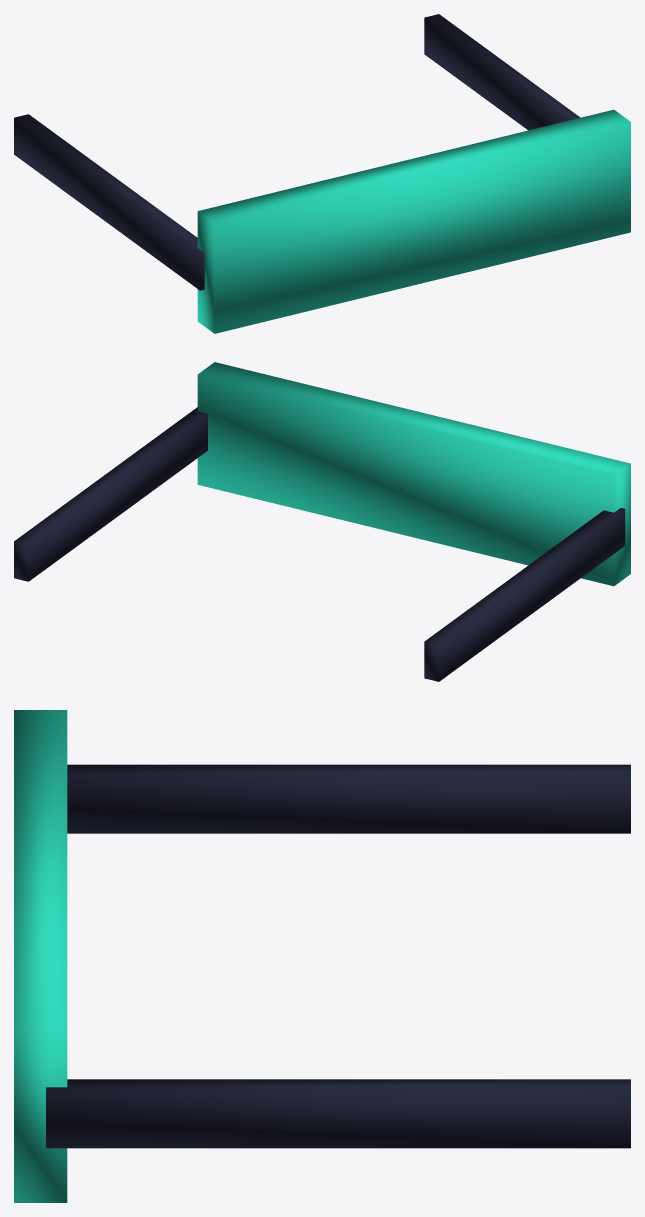
The model's file is cyber_visor.obj.
3 views of the same model, one above another, from view 1: azimuth 30°, elevation 25°; view 2: azimuth 150°, elevation 25°; view 3: azimuth 270°, elevation 25° (orthographic). The views are drawn at different scales.
Parts seen in each view (by area): view 1: visor_shield, visor_frame; view 2: visor_shield, visor_frame; view 3: visor_frame, visor_shield.
Part boxes in pixels (box(x1,y1,x2,y2)): visor_shield: box(197, 109, 630, 333); visor_frame: box(14, 14, 580, 290); visor_shield: box(197, 362, 630, 586); visor_frame: box(14, 407, 625, 681); visor_frame: box(46, 764, 630, 1148); visor_shield: box(14, 710, 67, 1202).
Bounding box in the file's own units: 0.145 × 0.036 × 0.116.
